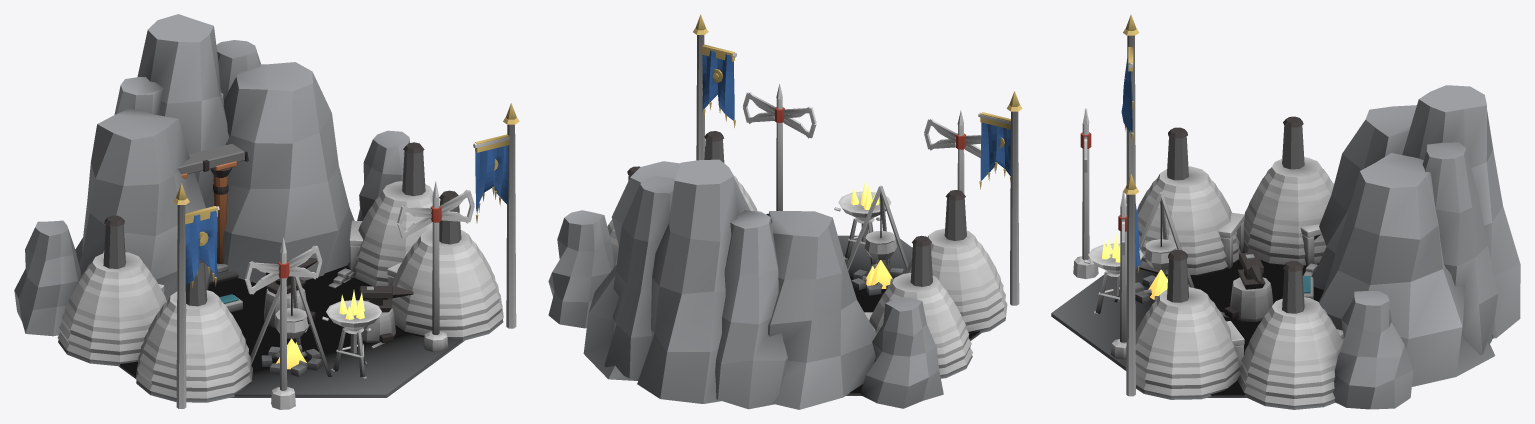
The model's file is dactyl-camp-l2.glb.
3 renders of one model, left to right at view 1: azimuth 30°, elevation 25°; view 2: azimuth 150°, elevation 25°; view 3: azimuth 270°, elevation 25°, orthographic. The views are drawn at different scales.
Visible parts, largest first — view 1: dactyl-camp-l2; view 2: dactyl-camp-l2; view 3: dactyl-camp-l2.
Part boxes in pixels (bbox=[...]): dactyl-camp-l2: bbox=[14, 14, 519, 409]; dactyl-camp-l2: bbox=[548, 14, 1022, 409]; dactyl-camp-l2: bbox=[1051, 14, 1520, 409].
Size of the model in its own units: 1.67 by 0.8909 by 1.68.
